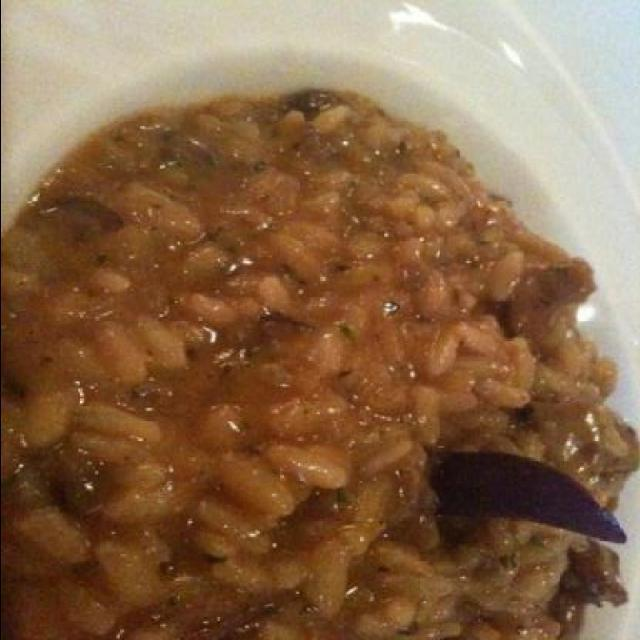Risotto: (10, 103, 610, 634)
